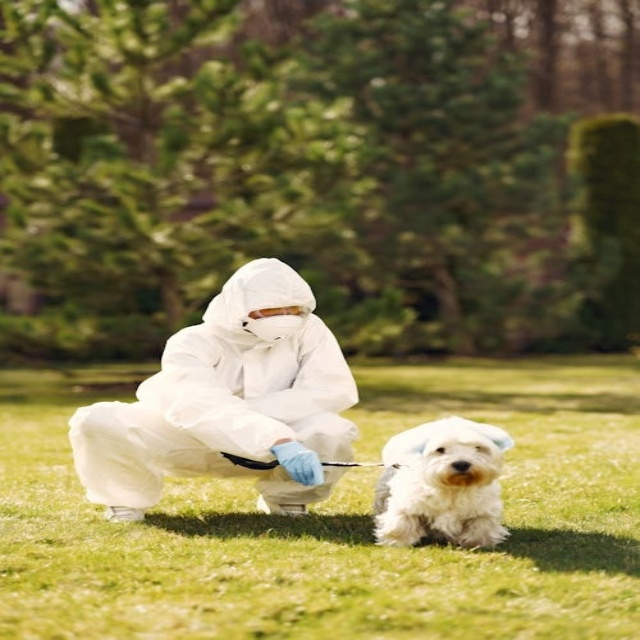Guantes: (271, 438, 324, 488)
Mascara: (246, 313, 311, 346)
